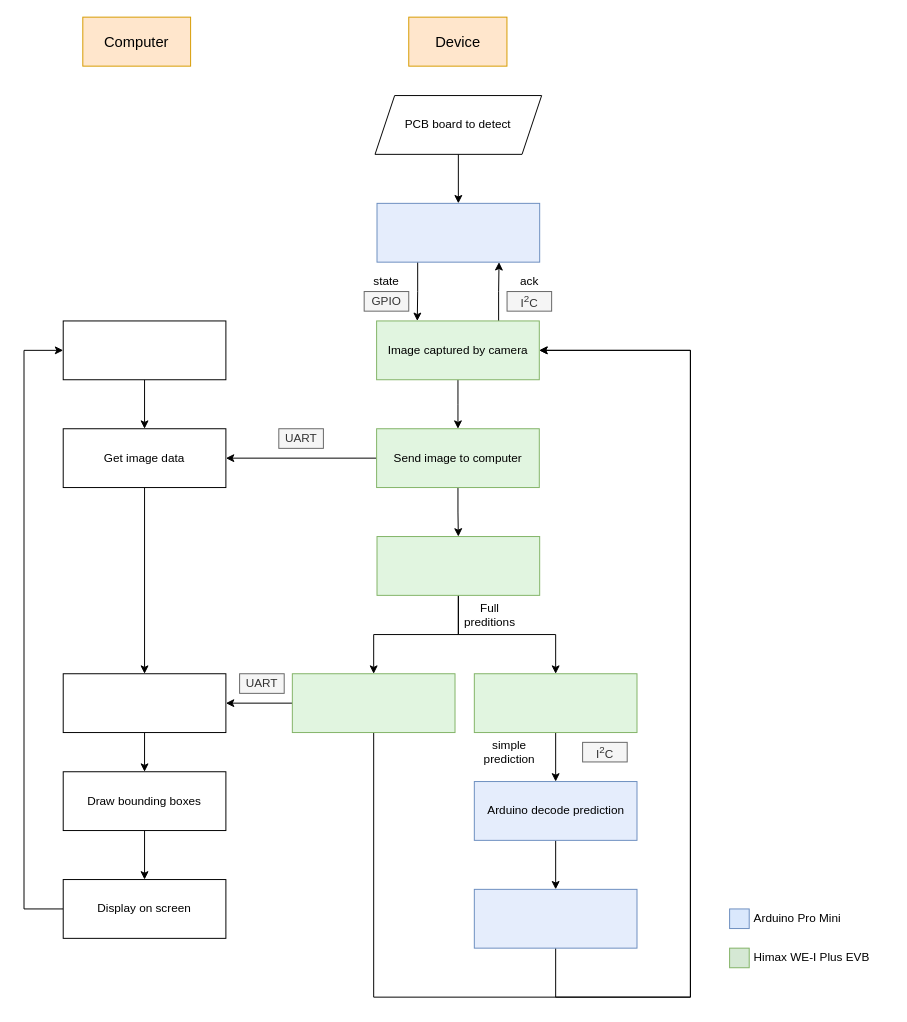
Image size: 907x1022. Some labels were removed from this diagram. Each missing label, with the centre of its shape:
"Display on TFT display" belongs at pixel 555 918.
"Get Joystick State" belongs at pixel 458 232.
"Get predict data" belongs at pixel 144 703.
"Invoke on WE-I Plus" belongs at pixel 458 565.
"Send prediction to computer" belongs at pixel 373 703.
"Wait for start signal" belongs at pixel 144 350.
"WE-I detection responder prepare detection result" belongs at pixel 555 703.
